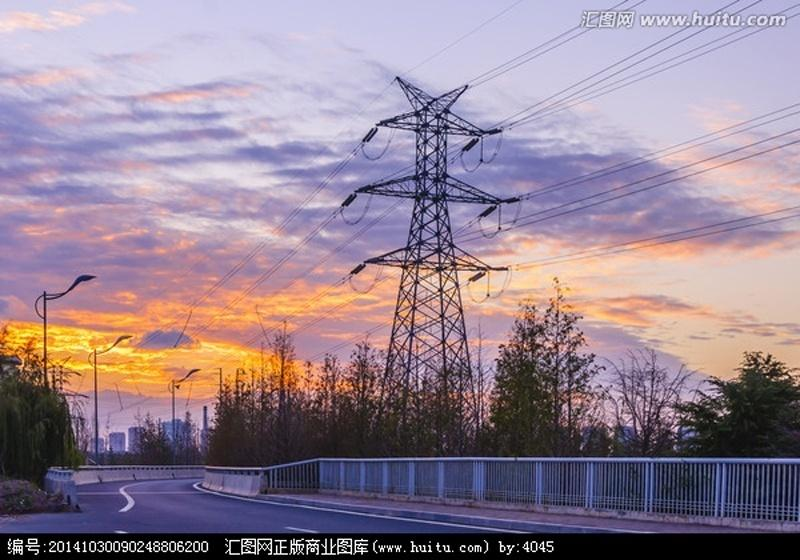power_tower: (354, 72, 517, 461)
